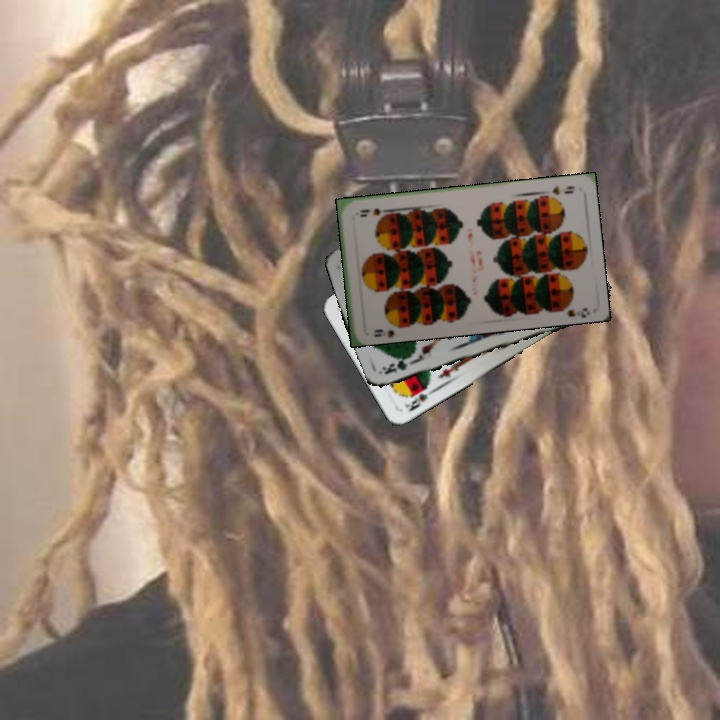GK: (376, 353, 414, 377)
S9: (370, 318, 405, 335), (547, 182, 577, 197)
SK: (400, 383, 435, 415)
